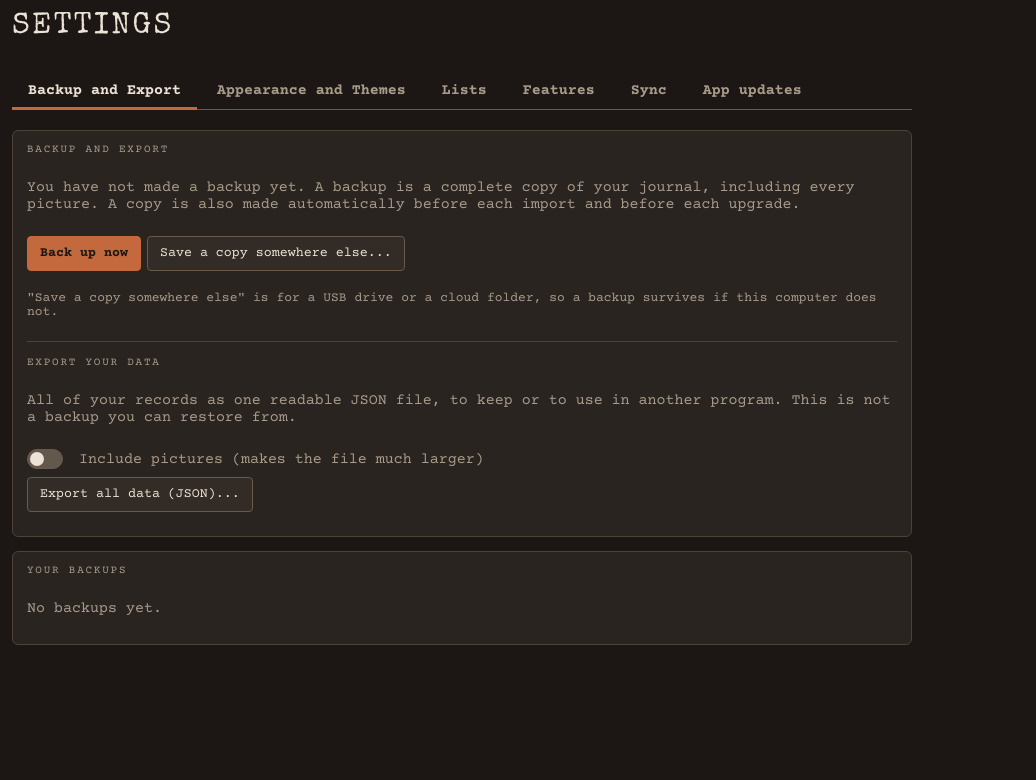
settings tabs › has Backup and Export, Appearance and Themes, and App updates
Expected: the text "Your backups" is shown, [27, 564, 127, 577]
Expected: the element "Mode" is not shown
Click the tab "Appearance and Themes" at (311, 92), box [201, 74, 422, 110]
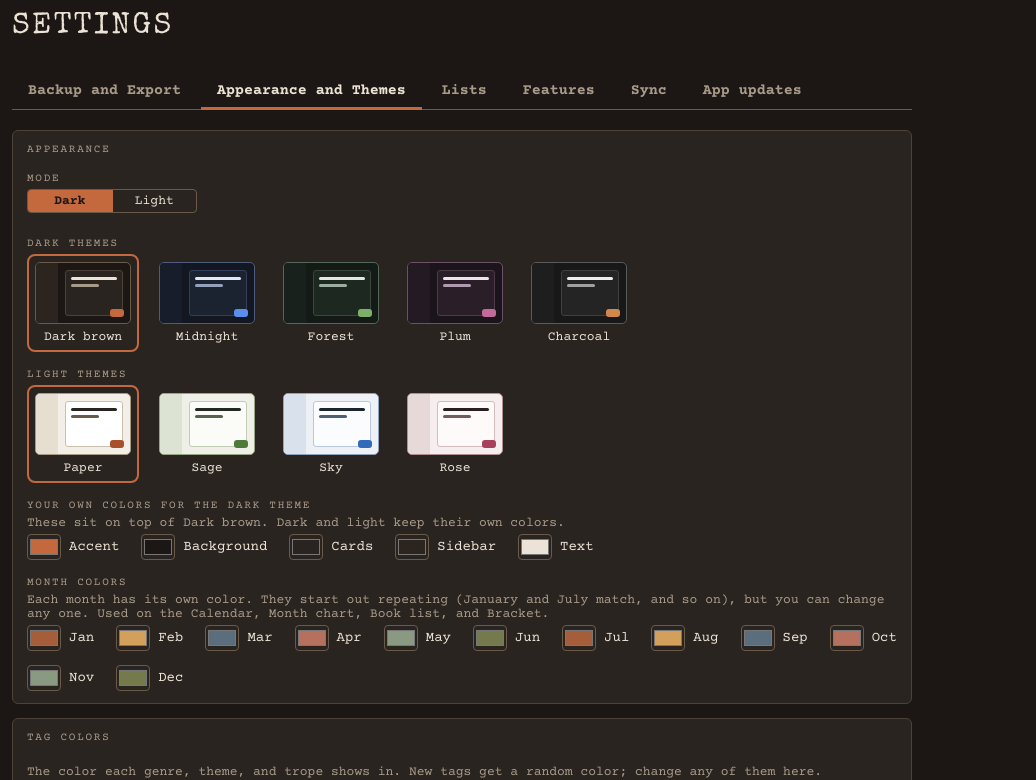
Expected: the element named "Mode" is shown, [27, 189, 197, 213]
Expected: the text "Your backups" is gone
